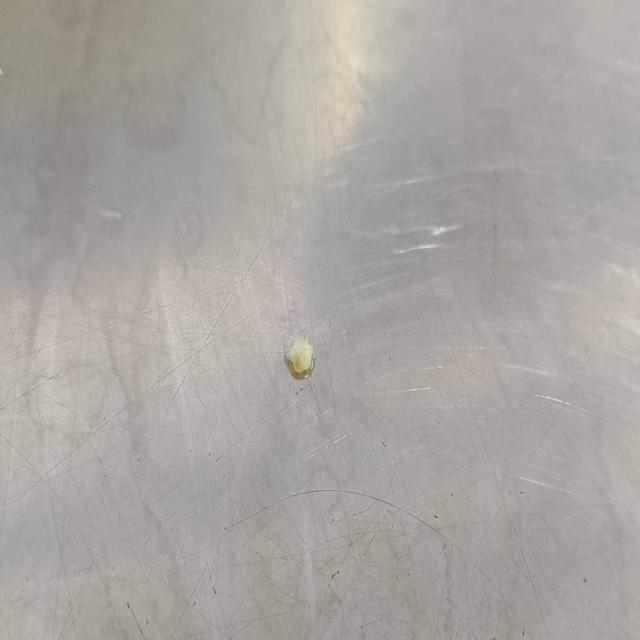General: (2, 4, 637, 636)
Infectious: (284, 335, 316, 378)
